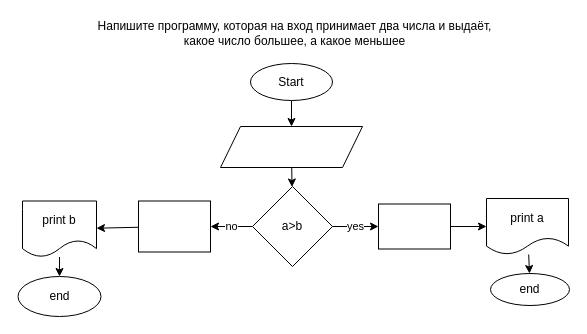
Image size: 587x334. Some labels were removed from this diagram. The shapes that lost their labels are listed below. From the top down, each one's centre as x and y in pixels, then its label:
At (x=291, y=147): "a, b".
At (x=174, y=226): "b= max".
At (x=414, y=226): "a=max".
